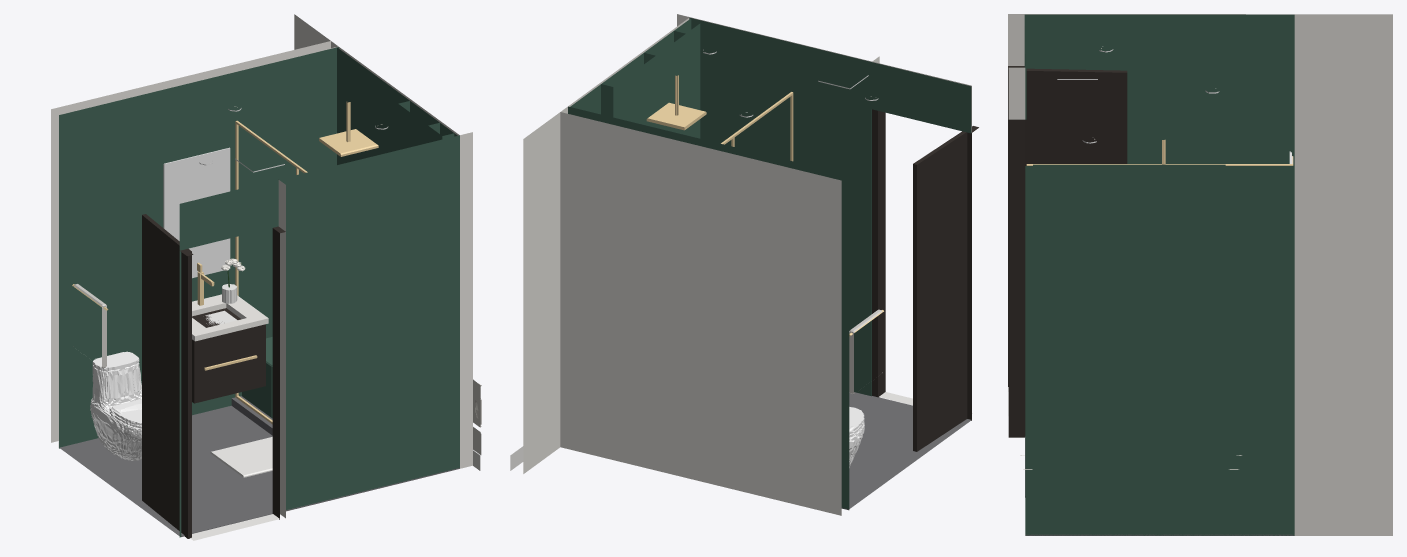
File: CBATH.glb
The picture shows the model from 3 angles, left to right: view 1: azimuth 30°, elevation 25°; view 2: azimuth 150°, elevation 25°; view 3: azimuth 270°, elevation 25°; orthographic projection. The views are drawn at different scales.
Visible parts, largest first — view 1: WEB_CBATH; view 2: WEB_CBATH; view 3: WEB_CBATH.
Part boxes in pixels (<box>): WEB_CBATH: <box>51,14,481,540</box>; WEB_CBATH: <box>510,14,978,515</box>; WEB_CBATH: <box>1008,14,1392,535</box>.
Size of the model in its own units: 2.35 by 2.5 by 2.36.
